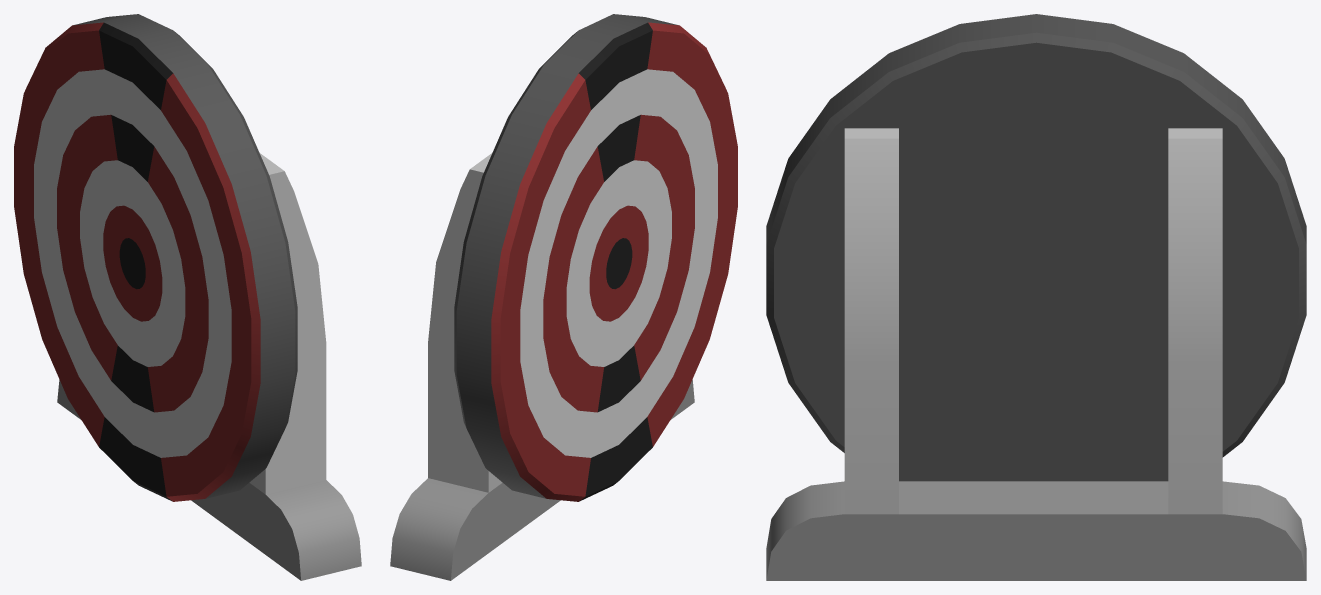
Rendered from Entity_Target.FBX.
The picture shows the model from 3 angles, left to right: view 1: azimuth 30°, elevation 25°; view 2: azimuth 150°, elevation 25°; view 3: azimuth 270°, elevation 25°; orthographic projection. The views are drawn at different scales.
Visible parts, largest first — view 1: Target, Backboard; view 2: Target, Backboard; view 3: Target, Backboard.
Part boxes in pixels (bbox=[...]): Target: bbox=[14, 14, 297, 501]; Backboard: bbox=[57, 153, 361, 580]; Target: bbox=[454, 14, 737, 501]; Backboard: bbox=[390, 153, 694, 580]; Target: bbox=[766, 14, 1306, 481]; Backboard: bbox=[766, 128, 1306, 580].
Bounding box in the file's own units: 12.52 × 51.72 × 49.43.
